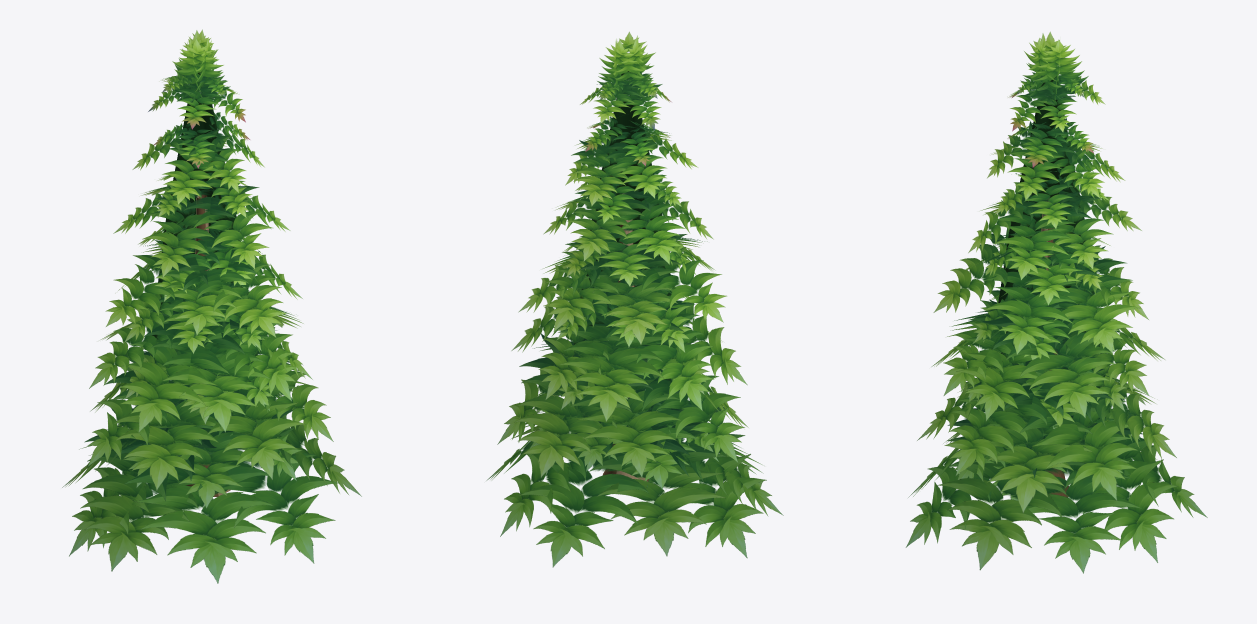
File: conifer5_a.glb
3 renders of one model, left to right at view 1: azimuth 30°, elevation 25°; view 2: azimuth 150°, elevation 25°; view 3: azimuth 270°, elevation 25°, orthographic. The views are drawn at different scales.
Parts seen in each view (by area): view 1: conifer; view 2: conifer; view 3: conifer.
Part boxes in pixels (bbox=[...]): conifer: bbox=[62, 29, 361, 583]; conifer: bbox=[486, 31, 783, 567]; conifer: bbox=[905, 31, 1207, 573].
Size of the model in its own units: 5.1 by 6.92 by 4.83.
2 materials, 2 textured.
